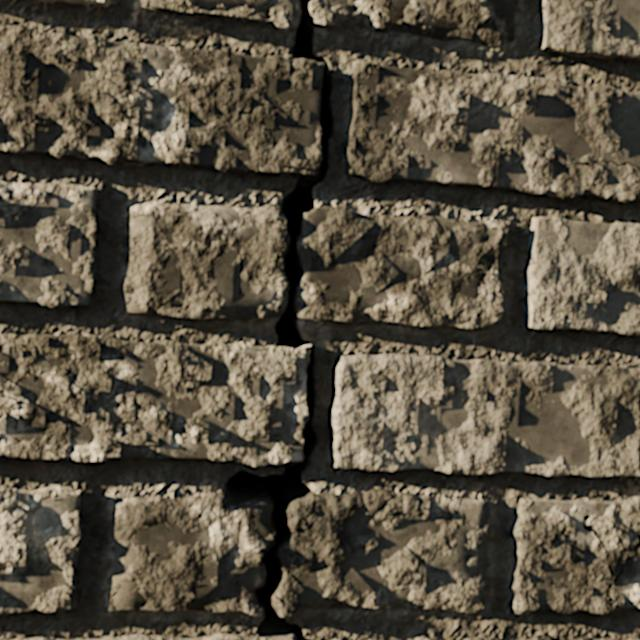broken_brick: (272, 488, 489, 617), (297, 206, 509, 329), (109, 492, 275, 615), (124, 201, 289, 318), (309, 0, 518, 48), (141, 0, 298, 32)
crack: (0, 0, 333, 639), (346, 60, 639, 203), (330, 354, 639, 476), (510, 496, 639, 614), (525, 217, 639, 335), (0, 181, 99, 307), (0, 485, 83, 613), (541, 0, 639, 60), (235, 242, 243, 296), (37, 0, 108, 6), (242, 270, 257, 295), (526, 634, 552, 639), (13, 637, 62, 639), (275, 595, 284, 604), (410, 635, 430, 639), (574, 637, 612, 639), (463, 637, 499, 639), (197, 509, 205, 518), (192, 584, 207, 587)
